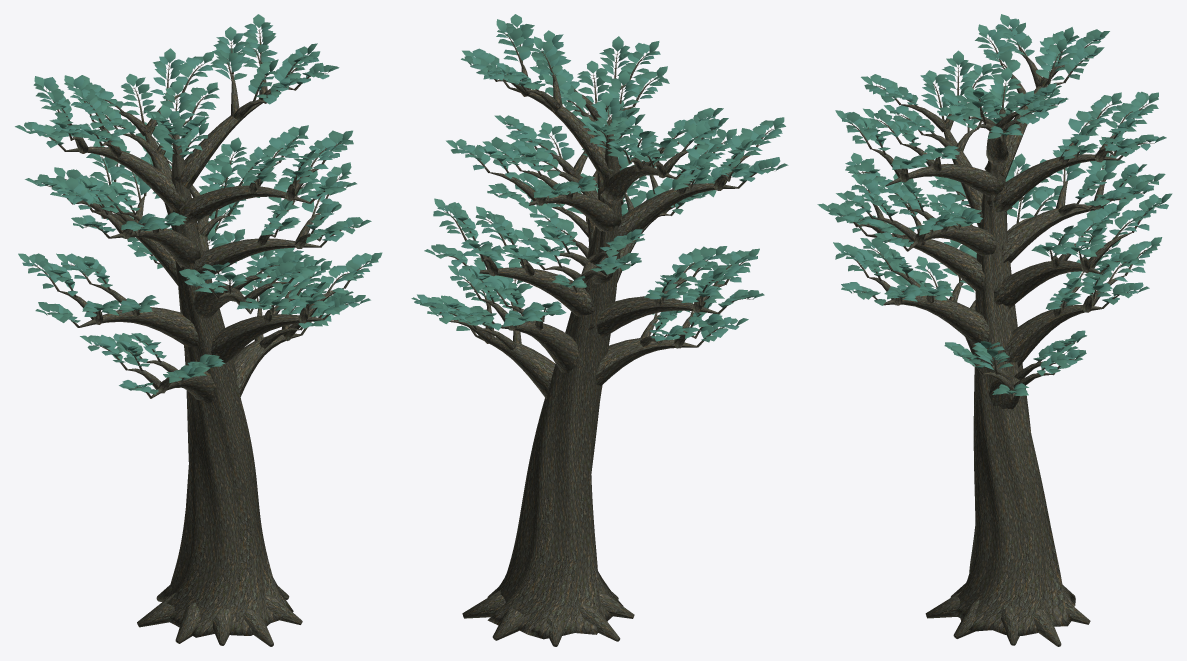
Rendered from vesper-connected-elder-v1.glb.
3 views of the same model, side by side, from view 1: azimuth 30°, elevation 25°; view 2: azimuth 150°, elevation 25°; view 3: azimuth 270°, elevation 25° (orthographic). The views are drawn at different scales.
Visible parts, largest first — view 1: pilot_elder_wood, pilot_elder_leaves; view 2: pilot_elder_wood, pilot_elder_leaves; view 3: pilot_elder_wood, pilot_elder_leaves.
Boxes of the visible parts, x1,y1,x2,y2 form: pilot_elder_wood: [32, 29, 367, 646]; pilot_elder_leaves: [15, 14, 382, 394]; pilot_elder_wood: [430, 27, 773, 646]; pilot_elder_leaves: [411, 14, 788, 342]; pilot_elder_wood: [841, 27, 1159, 646]; pilot_elder_leaves: [817, 14, 1172, 395].
Bounding box in the file's own units: 142 × 238 × 139.
2 materials, 1 textured.
